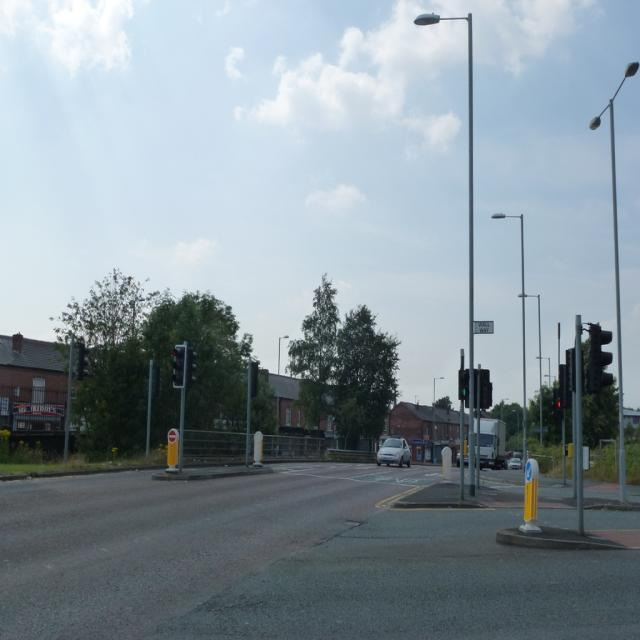off traffic light: (590, 324, 614, 392), (186, 349, 198, 386)
traffic light: (173, 344, 185, 388), (458, 369, 470, 400)
